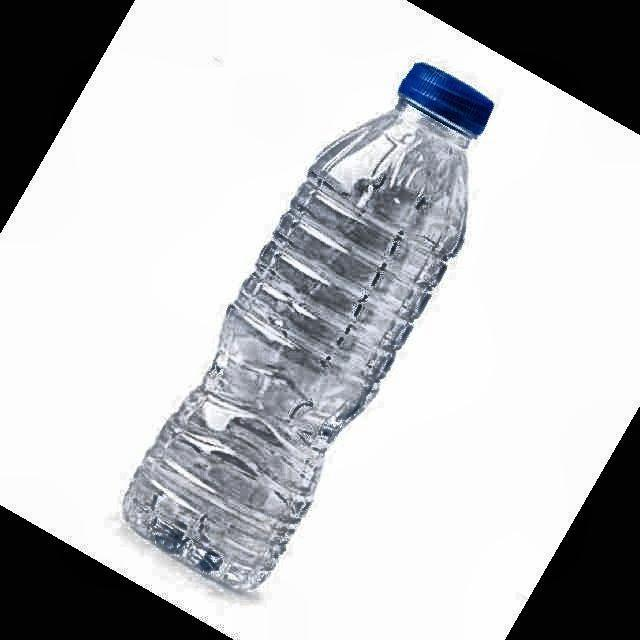plastic: (125, 65, 492, 590)
